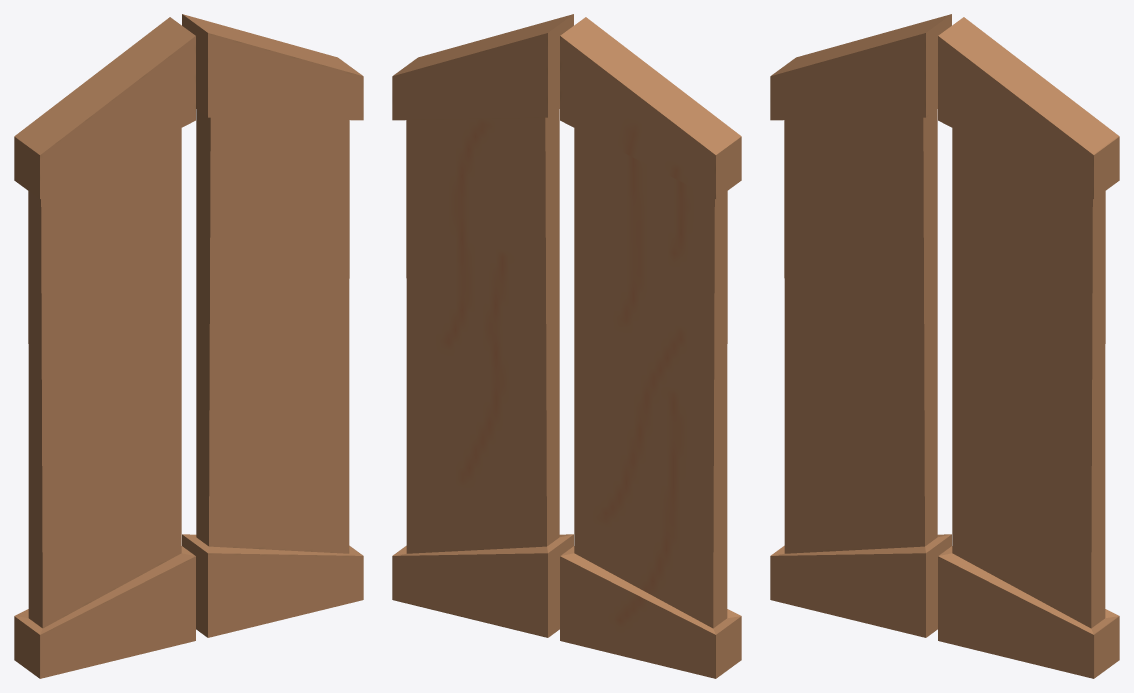
Rendered from gate.fbx.
3 views of the same model, side by side, from view 1: azimuth 30°, elevation 25°; view 2: azimuth 150°, elevation 25°; view 3: azimuth 330°, elevation 25° (orthographic).
Visible parts, largest first — view 1: Plane.002; view 2: Plane.002; view 3: Plane.002.
Boxes of the visible parts, x1=… form: Plane.002: x1=14, y1=14, x2=363, y2=678; Plane.002: x1=392, y1=14, x2=741, y2=678; Plane.002: x1=770, y1=14, x2=1119, y2=678.
Bounding box in the file's own units: 212 × 379 × 29.34.
Materials: 1 (1 with a texture image).
